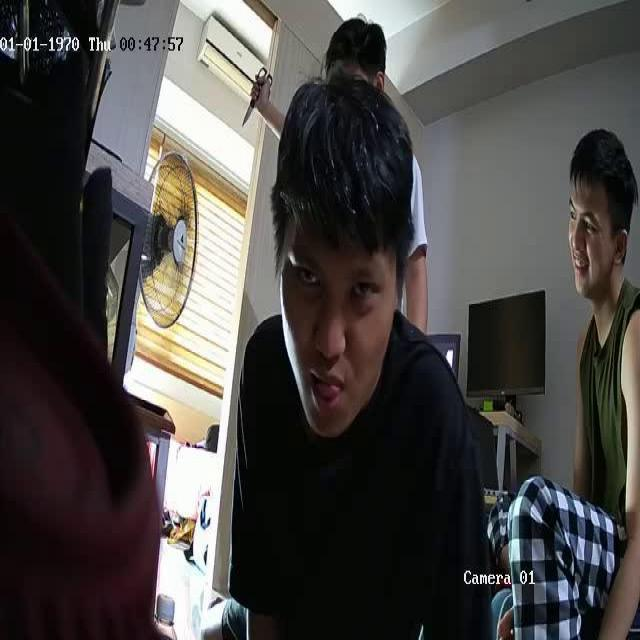scissor: (242, 70, 273, 126)
